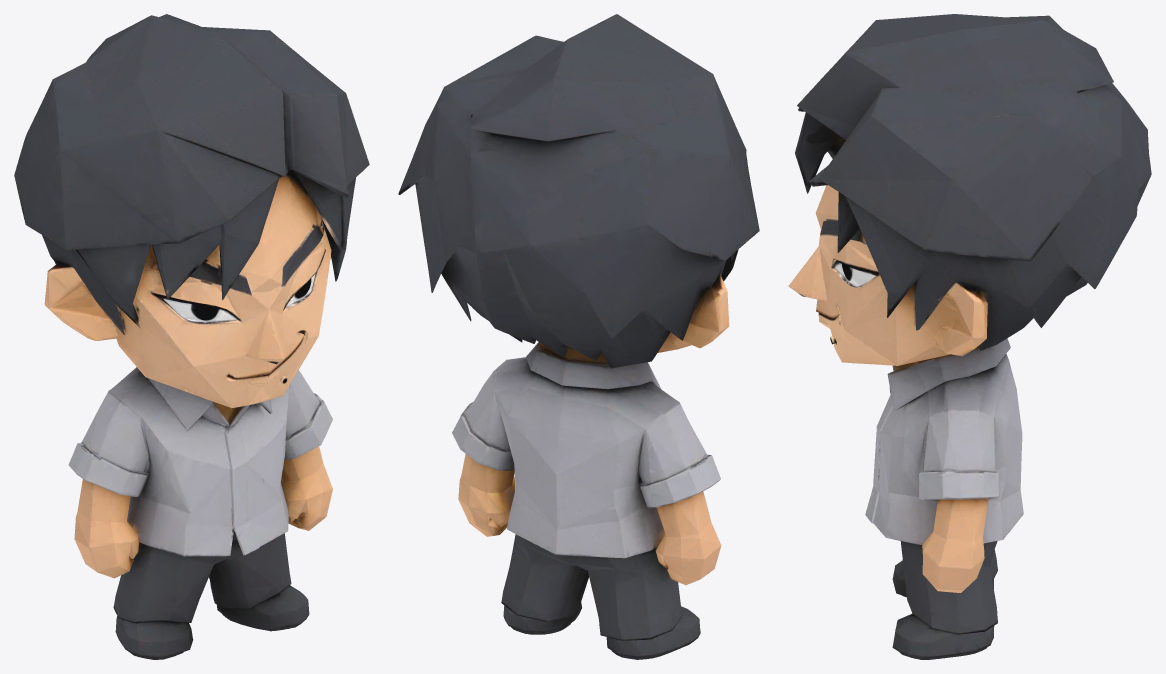
File: axmorf-profile.glb
3 views of the same model, side by side, from view 1: azimuth 30°, elevation 25°; view 2: azimuth 150°, elevation 25°; view 3: azimuth 270°, elevation 25° (orthographic). The views are drawn at different scales.
Parts seen in each view (by area): view 1: Mesh_0; view 2: Mesh_0; view 3: Mesh_0.
Boxes of the visible parts, left/top/right/bottom form: Mesh_0: left=14, top=14, right=369, bottom=659; Mesh_0: left=398, top=14, right=759, bottom=659; Mesh_0: left=788, top=14, right=1151, bottom=659.
Bounding box in the file's own units: 0.6315 × 1.14 × 0.6259.
Materials: 1 (1 with a texture image).
